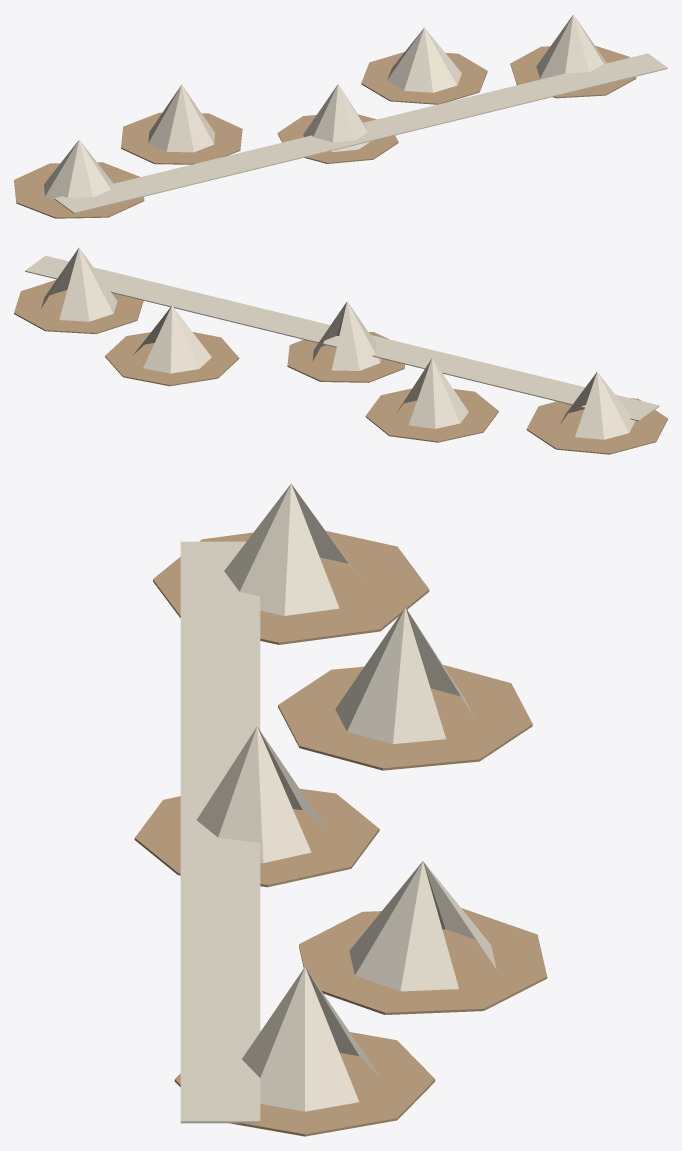
File: glamping-creek.glb
The picture shows the model from 3 angles, top to bottom: view 1: azimuth 30°, elevation 25°; view 2: azimuth 150°, elevation 25°; view 3: azimuth 270°, elevation 25°; orthographic projection. The views are drawn at different scales.
Visible parts, largest first — view 1: canvas, timber, stone; view 2: timber, canvas, stone; view 3: timber, canvas, stone.
Boxes of the visible parts, x1=… form: canvas: x1=44, y1=14, x2=606, y2=200; timber: x1=14, y1=45, x2=636, y2=218; stone: x1=54, y1=53, x2=667, y2=213; timber: x1=14, y1=279, x2=667, y2=454; canvas: x1=41, y1=247, x2=635, y2=439; stone: x1=25, y1=255, x2=659, y2=421; timber: x1=134, y1=531, x2=547, y2=1136; canvas: x1=197, y1=483, x2=496, y2=1111; stone: x1=180, y1=541, x2=260, y2=1123.
Size of the model in its own units: 44.97 by 4.04 by 12.93.
